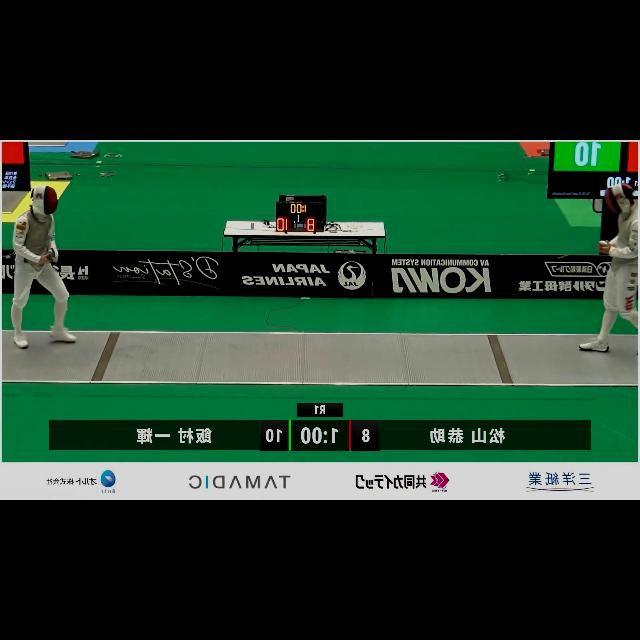blade: (550, 238, 608, 264)
